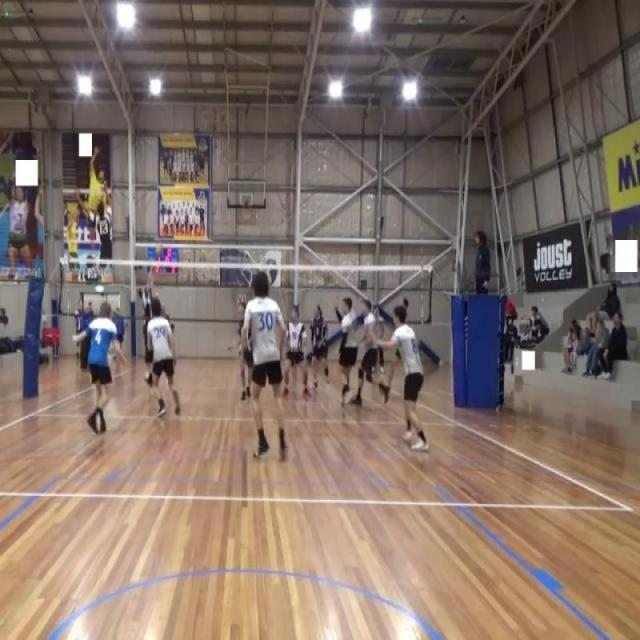volleyball: (153, 241, 165, 260)
